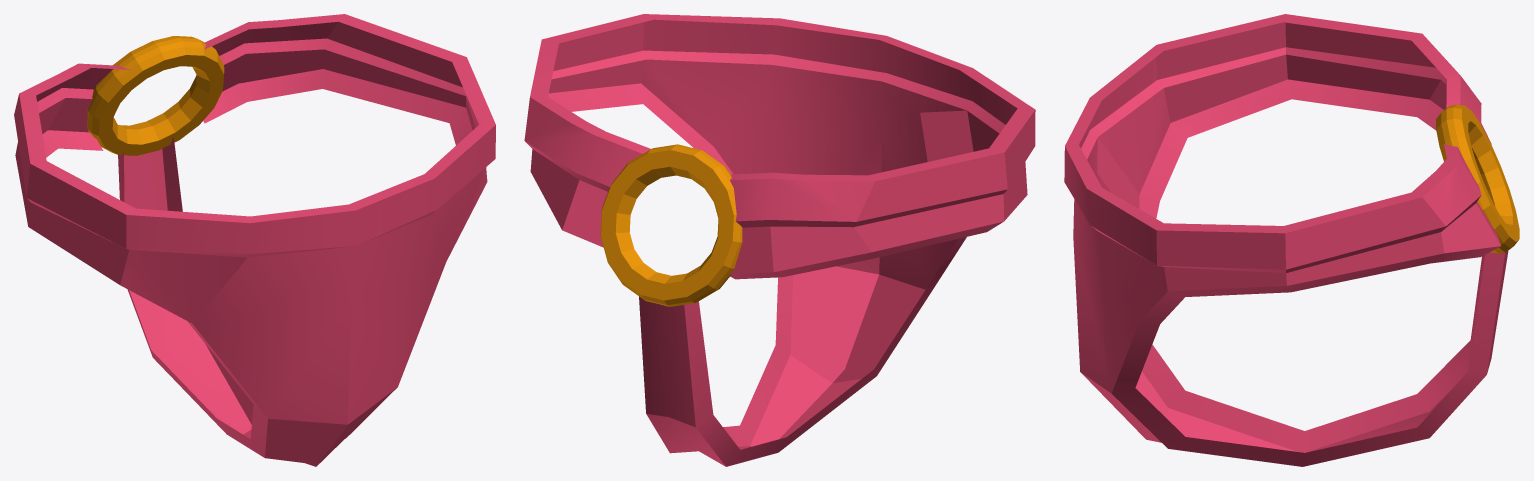
The model's file is UnderPants_С.022.fbx.
3 views of the same model, side by side, from view 1: azimuth 30°, elevation 25°; view 2: azimuth 150°, elevation 25°; view 3: azimuth 270°, elevation 25° (orthographic). The views are drawn at different scales.
Parts seen in each view (by area): view 1: UnderPants_С.02; view 2: UnderPants_С.02; view 3: UnderPants_С.02.
Part boxes in pixels (x1,y1,x2,y2): UnderPants_С.02: (14, 14, 495, 466); UnderPants_С.02: (524, 14, 1035, 466); UnderPants_С.02: (1064, 14, 1519, 466).
Size of the model in its own units: 32.09 by 23.68 by 27.73.
